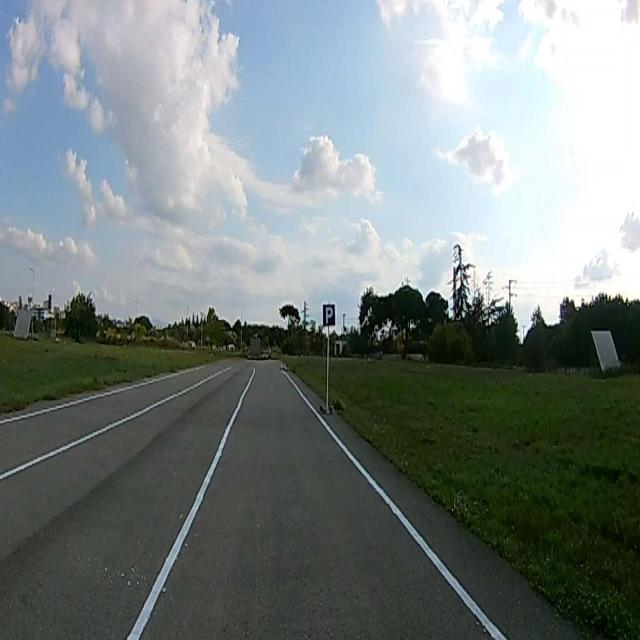park: (322, 303, 336, 326)
